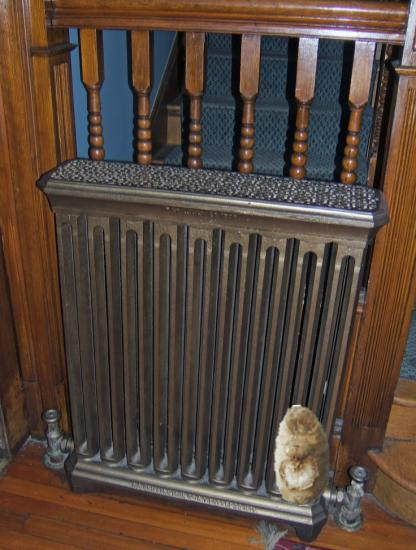Ginger: (251, 405, 352, 506)
